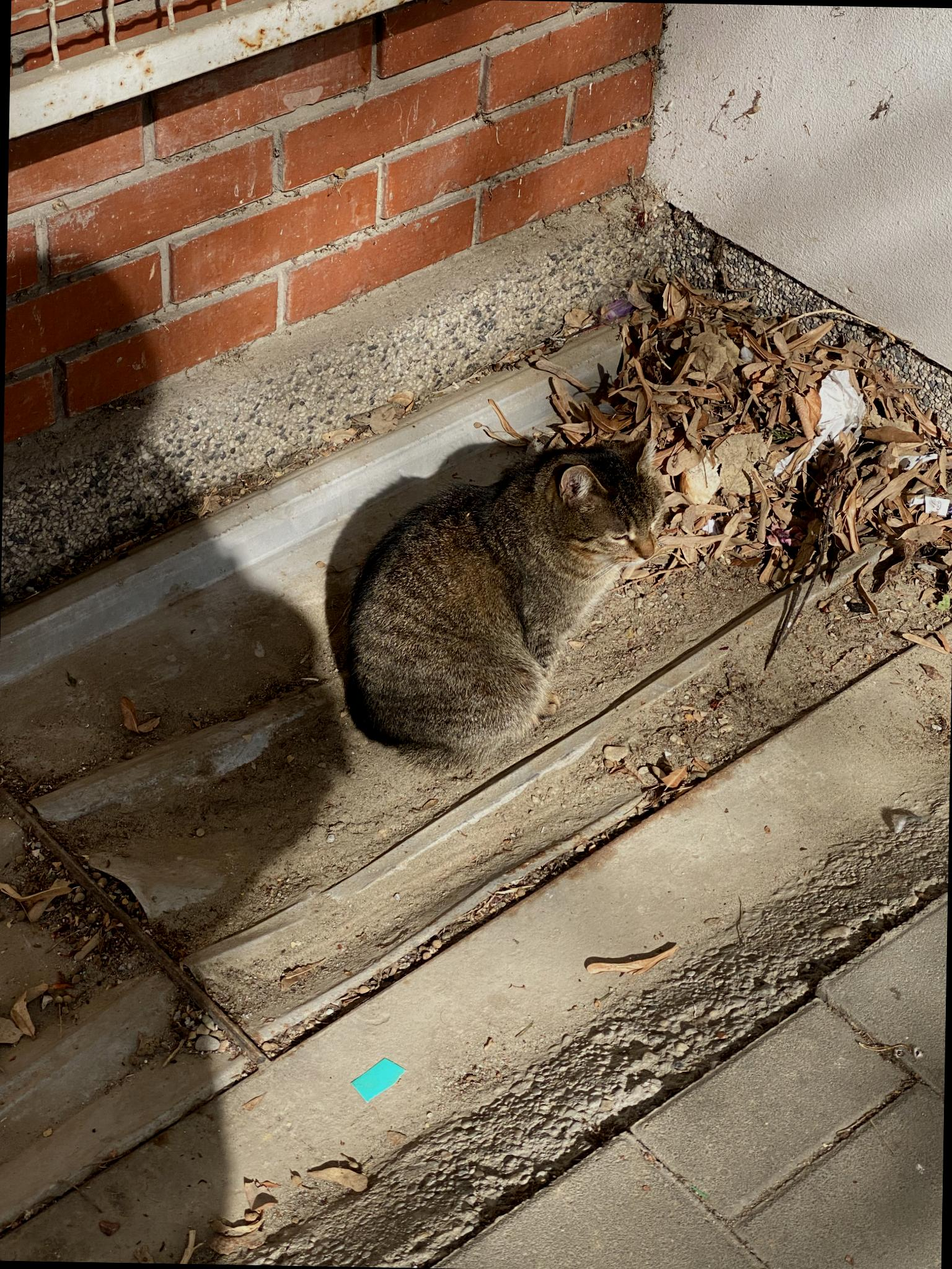macka: (339, 428, 666, 779)
